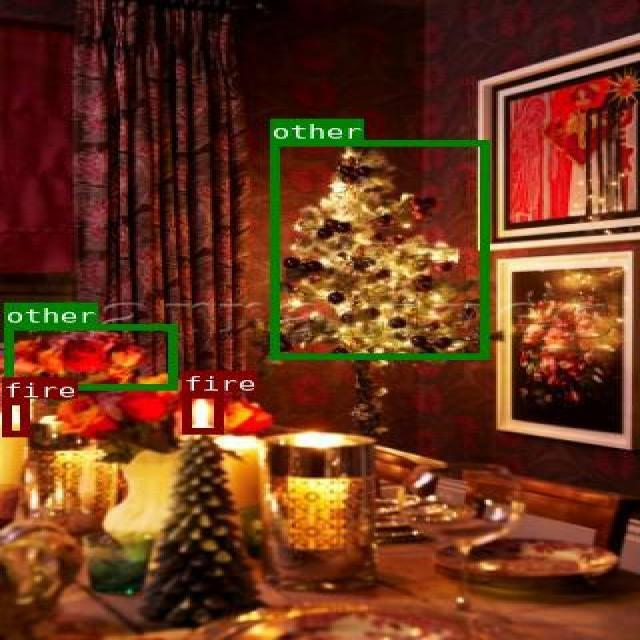fire: (181, 391, 220, 433), (1, 397, 27, 435)
